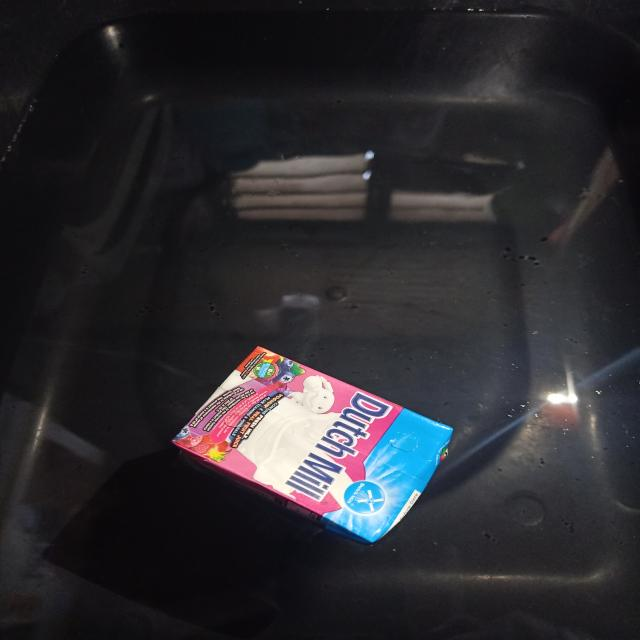Cardboard Box: (173, 346, 452, 542)
